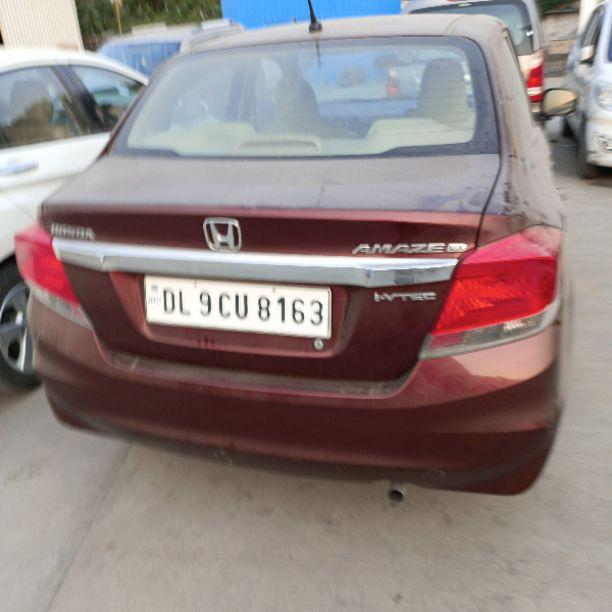license_plate: (141, 273, 332, 339)
